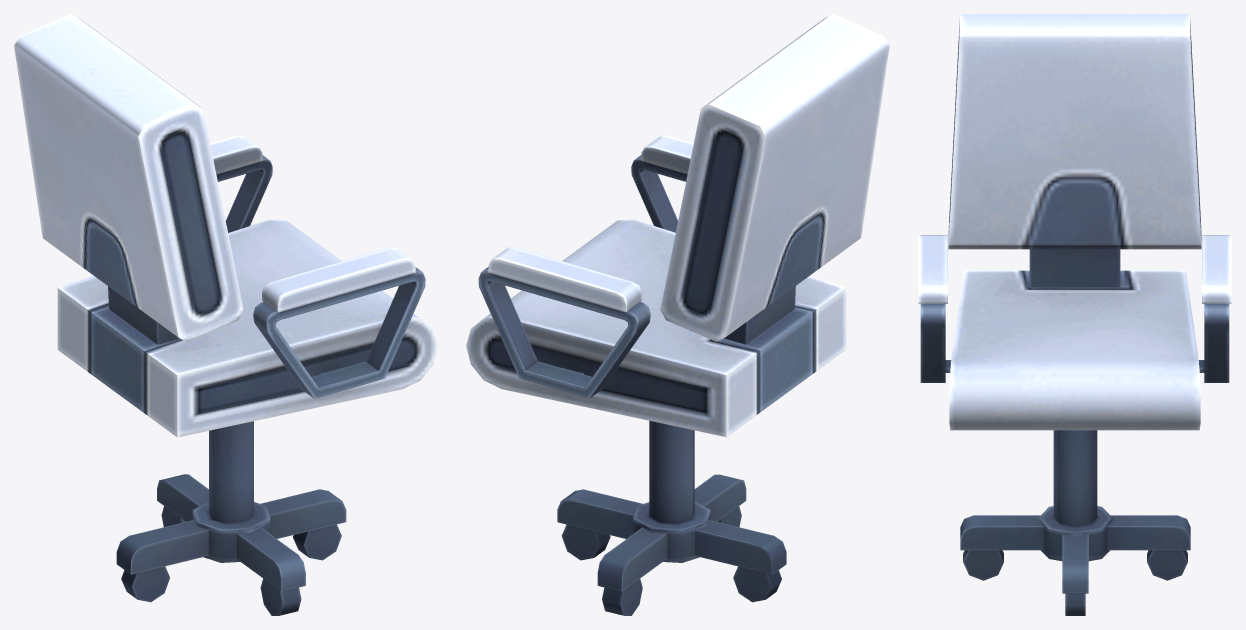
Rendered from obj_seat03.gltf.
3 renders of one model, left to right at view 1: azimuth 30°, elevation 25°; view 2: azimuth 150°, elevation 25°; view 3: azimuth 270°, elevation 25°, orthographic. The views are drawn at different scales.
Parts seen in each view (by area): view 1: obj_seat03; view 2: obj_seat03; view 3: obj_seat03.
Boxes of the visible parts, x1=… form: obj_seat03: x1=14, y1=14, x2=437, y2=615; obj_seat03: x1=466, y1=14, x2=889, y2=615; obj_seat03: x1=918, y1=14, x2=1231, y2=615.
Size of what is drawn, in the model's own units: 0.676 by 1.19 by 0.6727.
Materials: 1 (1 with a texture image).
